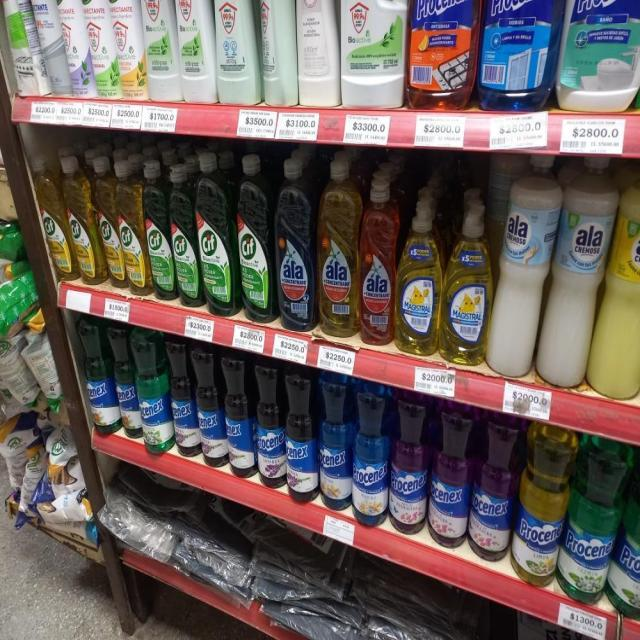ala_conc_amarillo: (317, 155, 358, 337)
ala_conc_azul: (275, 155, 315, 331)
ala_conc_rojo: (360, 174, 396, 347)
ala_crem_amarillo: (594, 156, 640, 400)
ala_crem_blanco: (543, 153, 607, 388), (492, 153, 552, 379)
cif_conc_bot_amarilla: (35, 154, 67, 281), (68, 155, 97, 285), (119, 157, 145, 296), (97, 156, 119, 289)
cif_conc_botella_verde: (237, 152, 273, 322), (198, 152, 235, 316), (172, 160, 197, 308), (146, 159, 171, 301)
magistral_con_amarillo: (443, 191, 491, 365), (396, 194, 442, 356)
